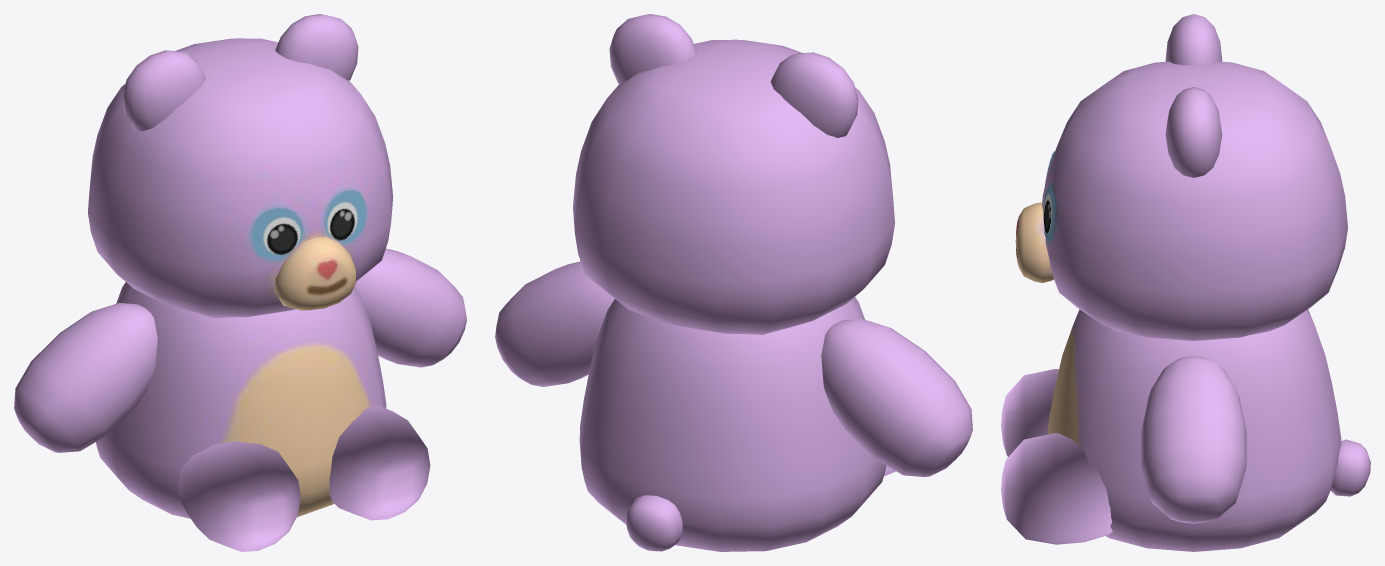
File: Bear.fbx
The picture shows the model from 3 angles, left to right: view 1: azimuth 30°, elevation 25°; view 2: azimuth 150°, elevation 25°; view 3: azimuth 270°, elevation 25°; orthographic projection. The views are drawn at different scales.
Parts seen in each view (by area): view 1: Bear1; view 2: Bear1; view 3: Bear1.
Part boxes in pixels (x1,y1,x2,y2): Bear1: (14,14,466,551); Bear1: (495,14,972,551); Bear1: (1001,14,1370,551).
Bounding box in the file's own units: 26.37 × 26.27 × 18.97.
Materials: 1 (1 with a texture image).
